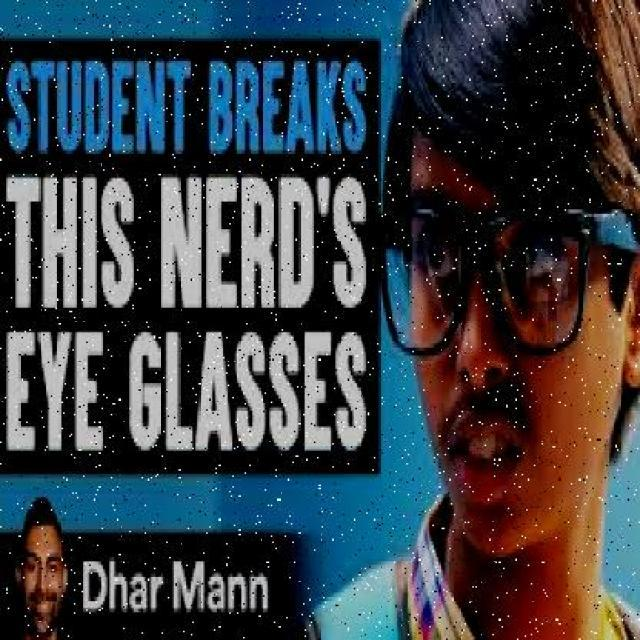glasses: (366, 189, 600, 360)
